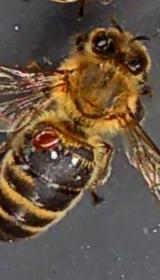varroa_mite: (32, 128, 72, 148)
